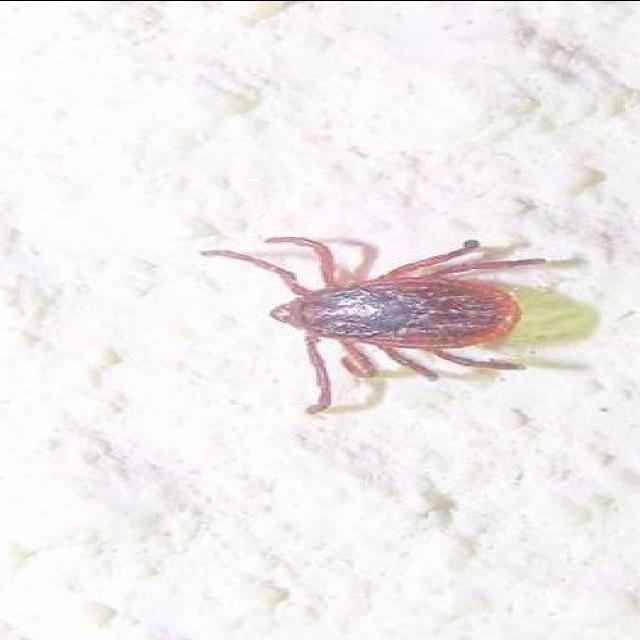Rhipicephalus Sanguineus-F: (200, 236, 526, 413)
